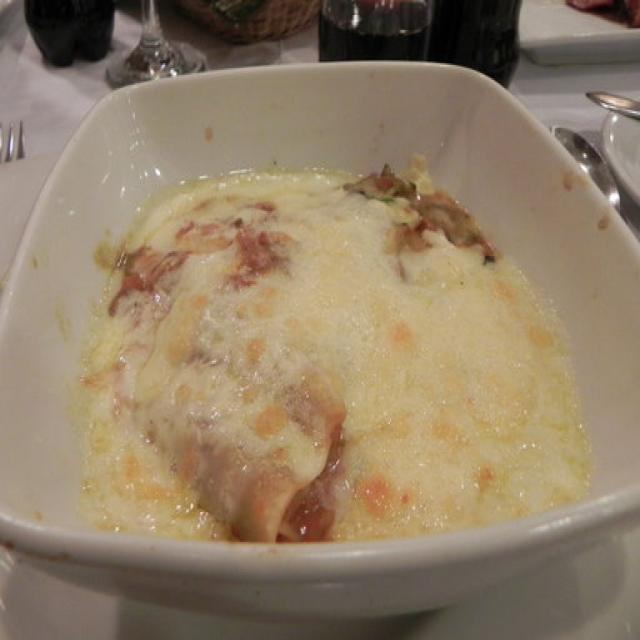Lasagna: (115, 168, 566, 546)
